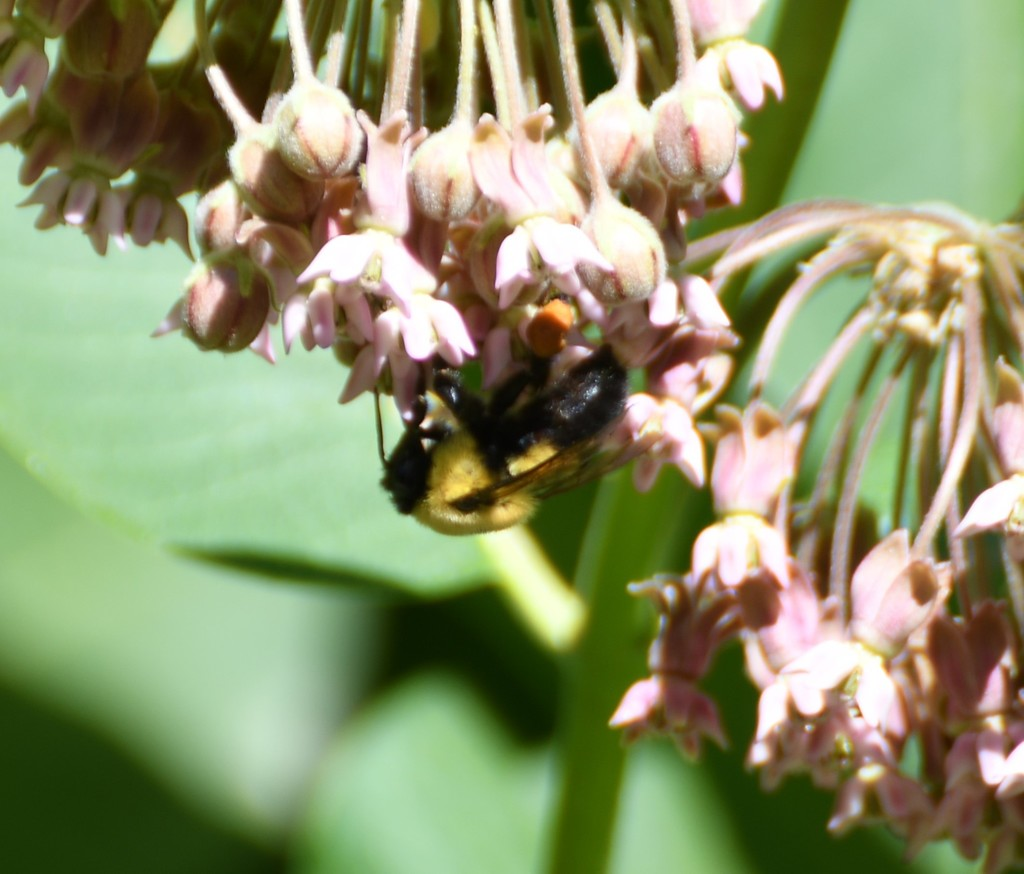bumblebee: (373, 341, 651, 539)
